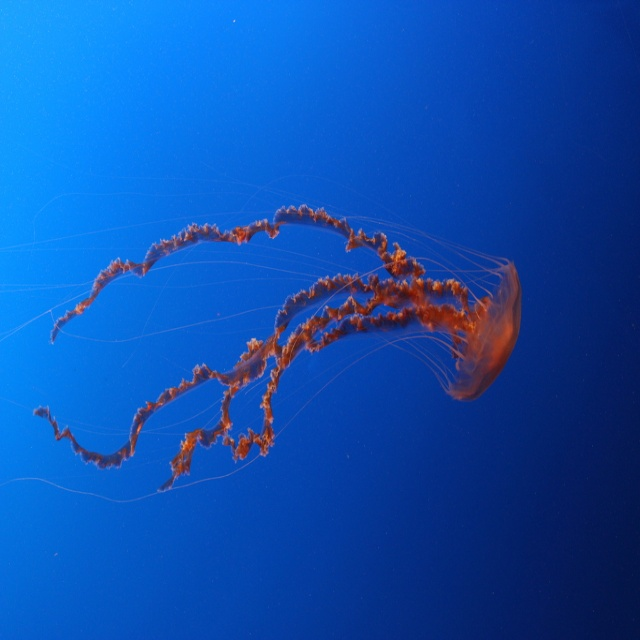Jellyfish: (28, 203, 522, 498)
